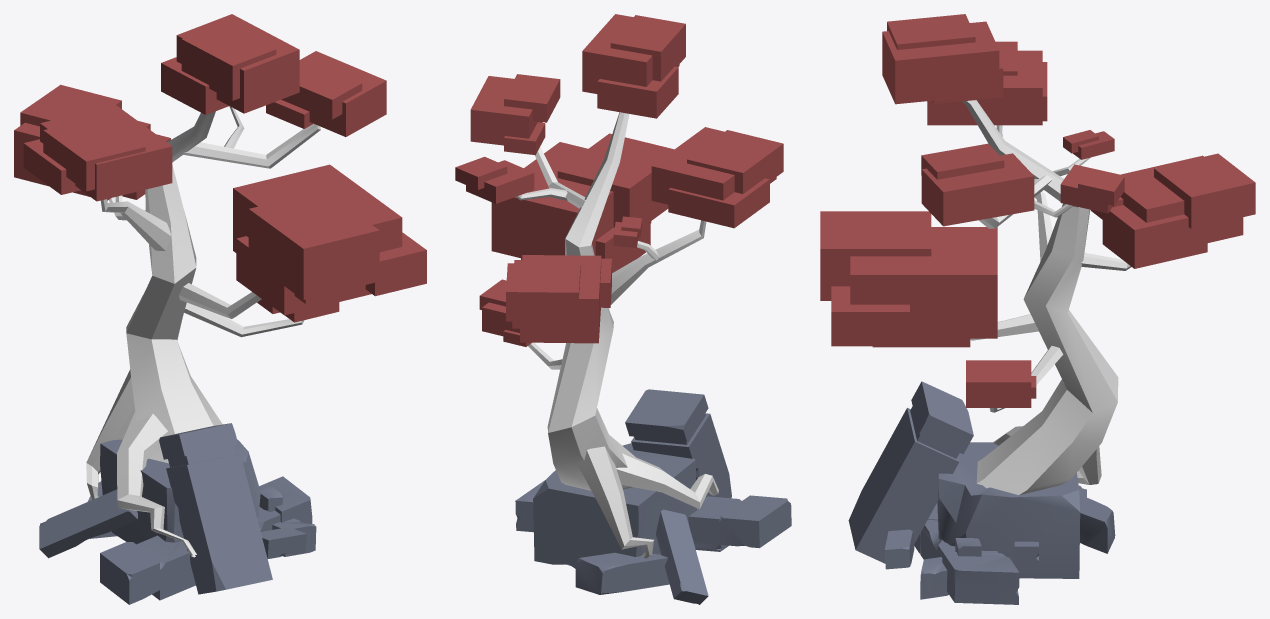
The model's file is SM_Tree_Ruins_A.fbx.
The picture shows the model from 3 angles, left to right: view 1: azimuth 30°, elevation 25°; view 2: azimuth 150°, elevation 25°; view 3: azimuth 270°, elevation 25°; orthographic projection. The views are drawn at different scales.
Parts seen in each view (by area): view 1: SM_Tree_Ruins_A; view 2: SM_Tree_Ruins_A; view 3: SM_Tree_Ruins_A.
Boxes of the visible parts, <box> form: SM_Tree_Ruins_A: <box>14,14,426,604</box>; SM_Tree_Ruins_A: <box>455,14,791,604</box>; SM_Tree_Ruins_A: <box>820,14,1255,604</box>.
Size of what is drawn, in the model's own units: 564 by 921 by 672.
